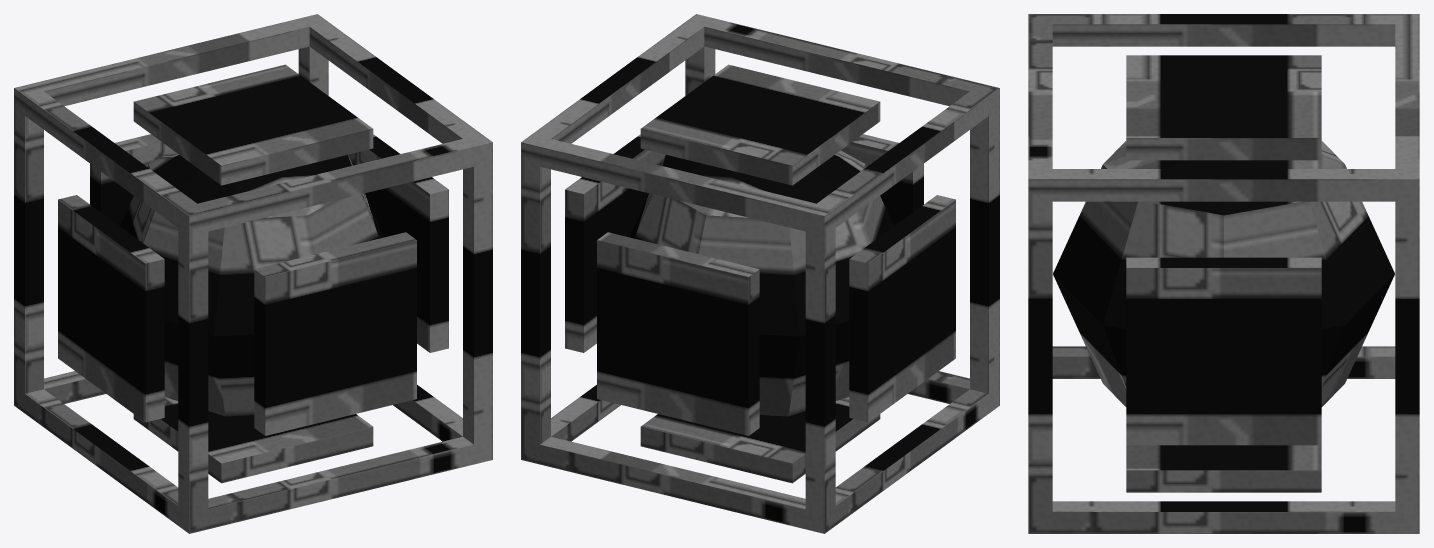
File: creativeCompressor.obj
3 views of the same model, side by side, from view 1: azimuth 30°, elevation 25°; view 2: azimuth 150°, elevation 25°; view 3: azimuth 270°, elevation 25° (orthographic). The views are drawn at different scales.
Visible parts, largest first — view 1: Group_4_001, Group_7_001, Group_001, Group_4_002, Group_7_003, Group_7_006, Group_7_005, Group_7_004, Group_5_003, Group_5_004, Group_5_001, Group_7_002 (+1 smaller); view 2: Group_4_002, Group_7_002, Group_001, Group_4_001, Group_7_003, Group_7_006, Group_7_005, Group_7_004, Group_5_003, Group_5_004, Group_5_001, Group_7_001 (+1 smaller); view 3: Group_7_004, Group_001, Group_7_006, Group_4_001, Group_4_002, Group_5_001, Group_5_002, Group_5_003, Group_7_005, Group_5_004.
Part boxes in pixels (x1,y1,x2,y2): Group_4_001: (178, 134, 492, 533); Group_7_001: (254, 232, 416, 435); Group_001: (120, 150, 384, 416); Group_4_002: (14, 14, 328, 413); Group_7_003: (58, 195, 164, 422); Group_7_006: (133, 64, 373, 185); Group_7_005: (133, 397, 373, 483); Group_7_004: (348, 134, 448, 352); Group_5_003: (25, 91, 196, 227); Group_5_004: (25, 389, 178, 525); Group_5_001: (309, 22, 481, 143); Group_7_002: (90, 134, 172, 225); Group_4_002: (521, 134, 835, 533); Group_7_002: (597, 232, 759, 435); Group_001: (629, 150, 893, 416); Group_4_001: (685, 14, 999, 413); Group_7_003: (849, 195, 955, 422); Group_7_006: (640, 64, 880, 185); Group_7_005: (640, 397, 880, 483); Group_7_004: (565, 134, 665, 352); Group_5_003: (817, 91, 988, 227); Group_5_004: (835, 389, 988, 525); Group_5_001: (532, 22, 704, 143); Group_7_001: (841, 134, 923, 225); Group_7_004: (1126, 257, 1321, 445); Group_001: (1053, 141, 1394, 406); Group_7_006: (1126, 55, 1321, 160); Group_4_001: (1028, 14, 1052, 533); Group_4_002: (1395, 14, 1419, 533); Group_5_001: (1052, 169, 1395, 201); Group_5_002: (1052, 501, 1395, 533); Group_5_003: (1052, 14, 1395, 46); Group_7_005: (1126, 445, 1321, 492); Group_5_004: (1052, 346, 1395, 378).
Size of the model in its own units: 16 by 16 by 16.
